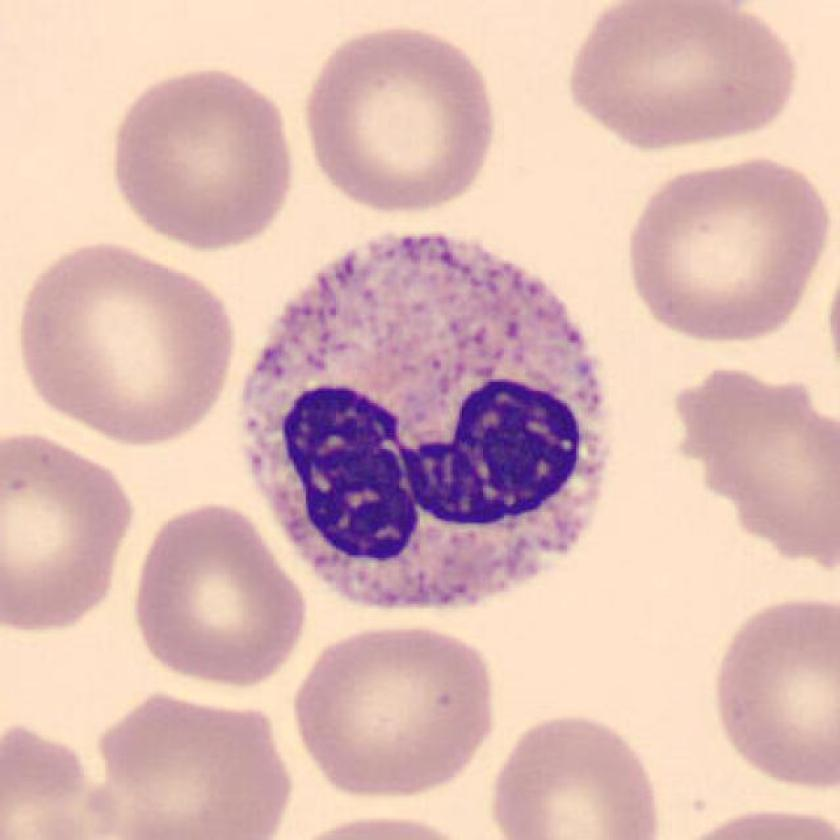neutrophil: (245, 235, 610, 610)
